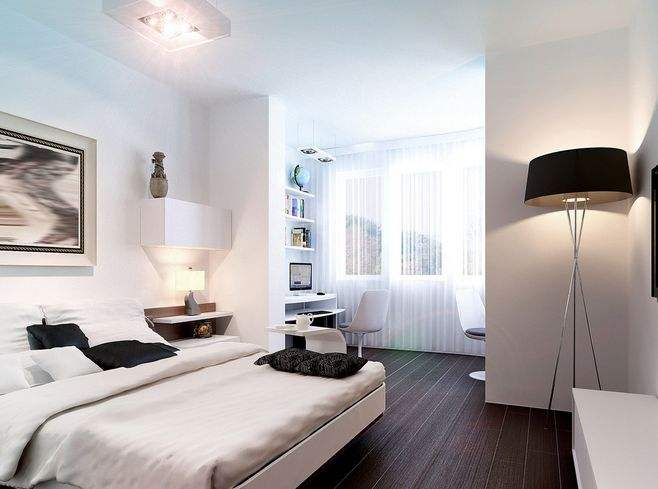床: (0, 349, 390, 489)
枕头: (0, 294, 182, 377), (269, 346, 366, 378)
灯: (511, 138, 639, 421), (100, 5, 235, 56), (166, 267, 205, 316), (298, 144, 334, 165)
